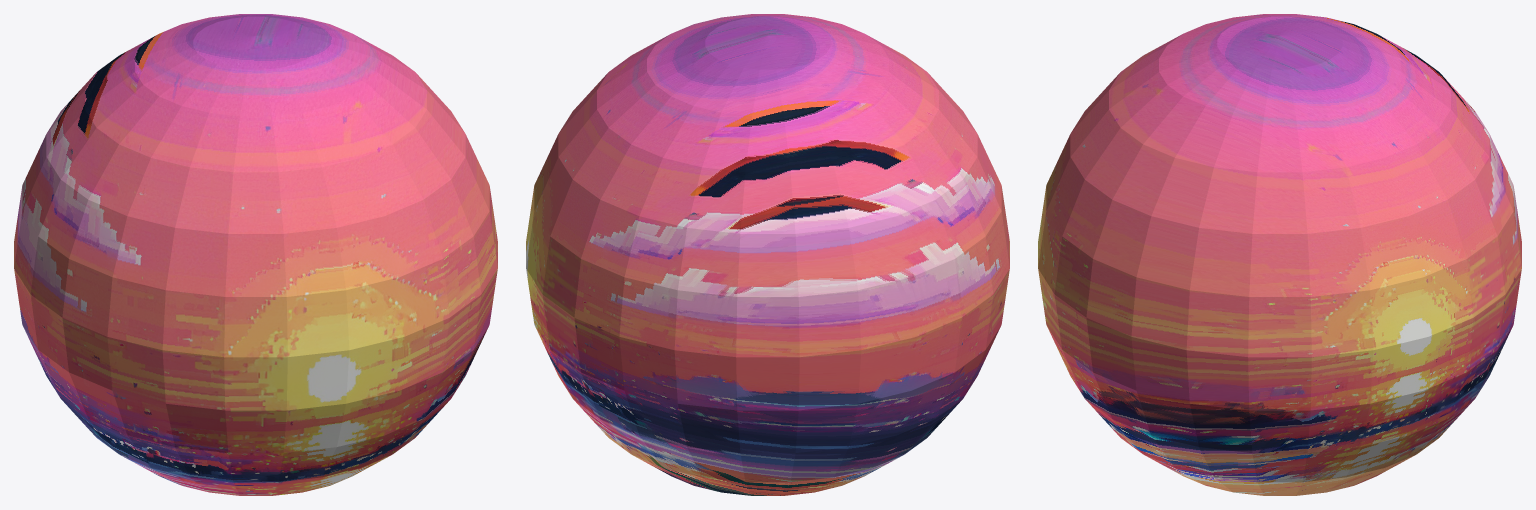
File: SkyBoxBeach.gltf
3 renders of one model, left to right at view 1: azimuth 30°, elevation 25°; view 2: azimuth 150°, elevation 25°; view 3: azimuth 270°, elevation 25°, orthographic.
Parts seen in each view (by area): view 1: sphere; view 2: sphere; view 3: sphere.
Boxes of the visible parts, bbox=[...] form: sphere: bbox=[14, 14, 497, 495]; sphere: bbox=[526, 14, 1009, 495]; sphere: bbox=[1038, 14, 1521, 495].
Size of the model in its own units: 2 by 2 by 2.
Materials: 1 (1 with a texture image).
